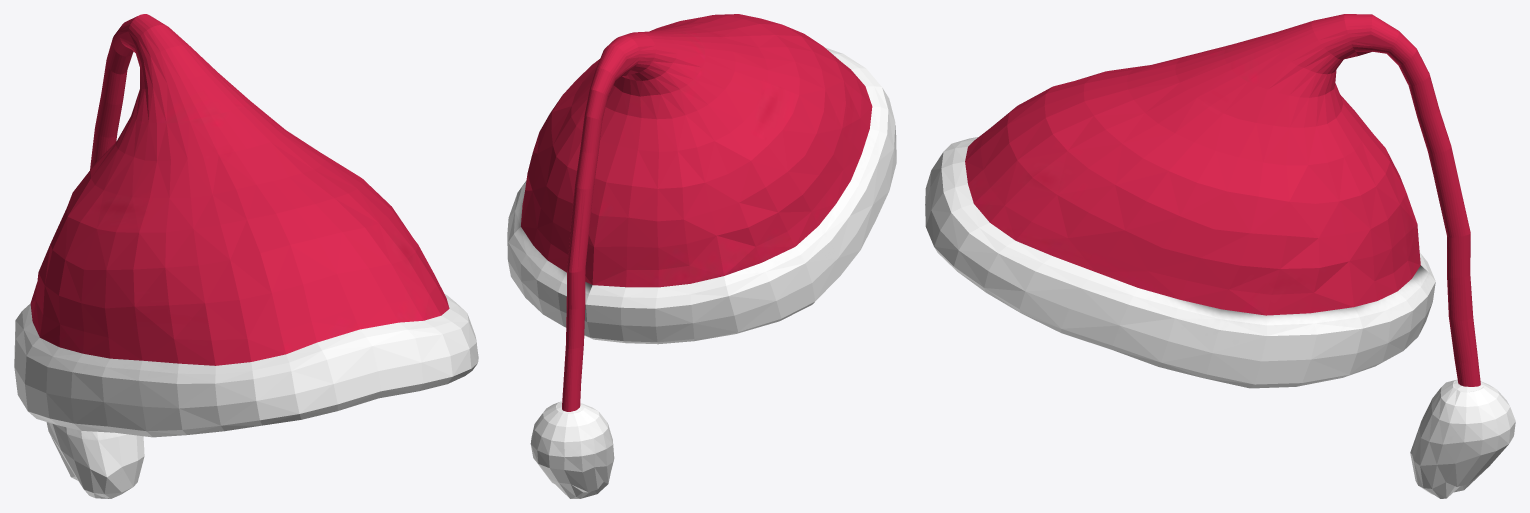
File: mhw_joepal_xmas_cap.glb
3 views of the same model, side by side, from view 1: azimuth 30°, elevation 25°; view 2: azimuth 150°, elevation 25°; view 3: azimuth 270°, elevation 25° (orthographic). The views are drawn at different scales.
Visible parts, largest first — view 1: mhw_joepal_xmas_cap; view 2: mhw_joepal_xmas_cap; view 3: mhw_joepal_xmas_cap.
Boxes of the visible parts, <box> form: mhw_joepal_xmas_cap: <box>14,14,478,498</box>; mhw_joepal_xmas_cap: <box>507,14,896,498</box>; mhw_joepal_xmas_cap: <box>925,14,1515,498</box>.
Bounding box in the file's own units: 0.1667 × 0.2245 × 0.2514.
Materials: 1 (1 with a texture image).
